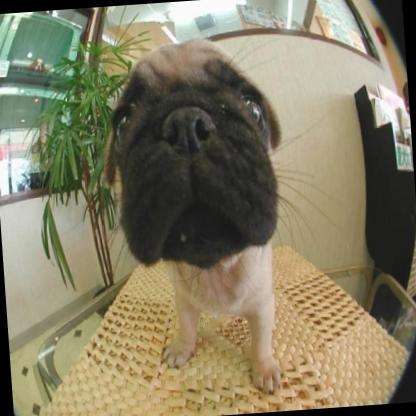pug: (94, 31, 298, 406)
